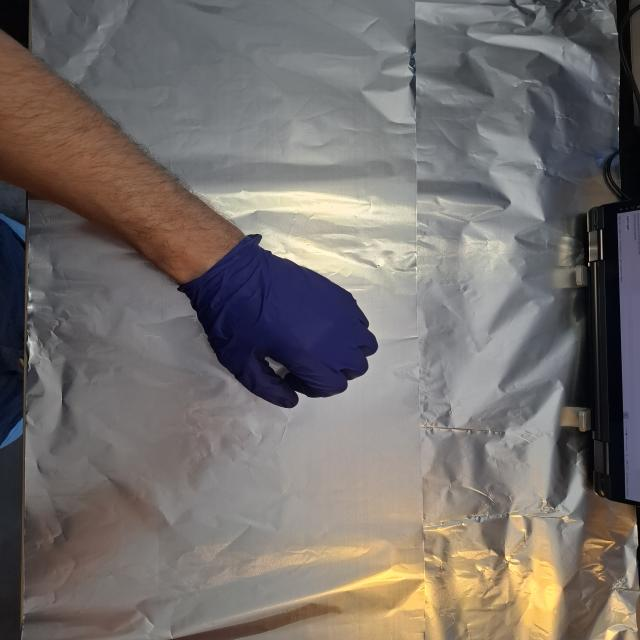glove_on: (180, 237, 384, 411)
